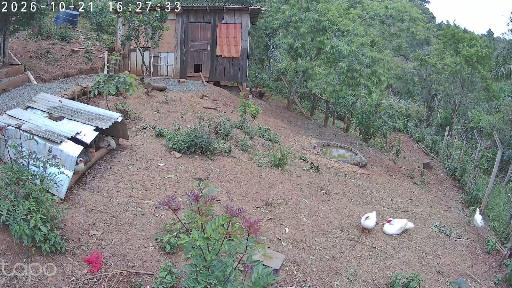frango: (96, 134, 118, 151)
galinha: (84, 146, 97, 163), (73, 157, 85, 175), (264, 94, 274, 101), (259, 90, 265, 101)
galo: (470, 206, 484, 234)
pato: (380, 216, 416, 238), (358, 209, 378, 234)
